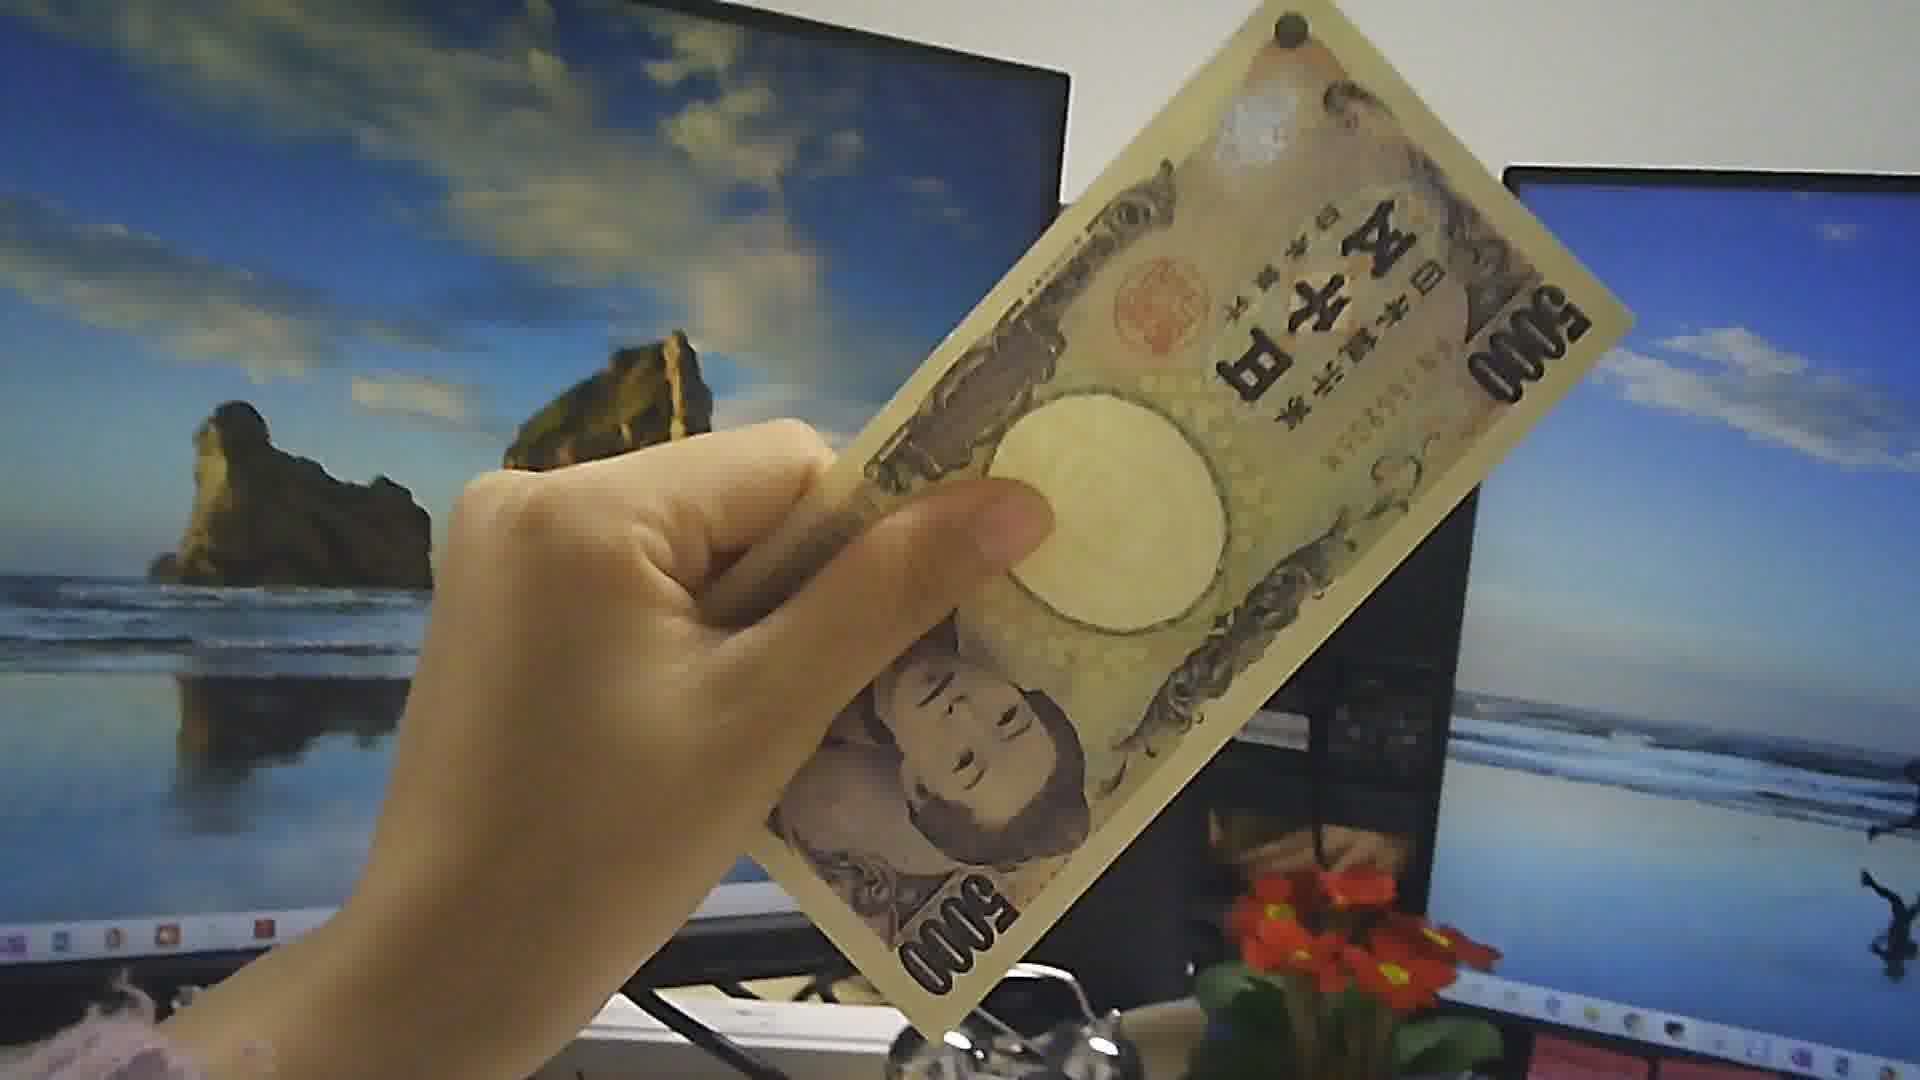5,000 Yen: (661, 9, 1647, 1069)
